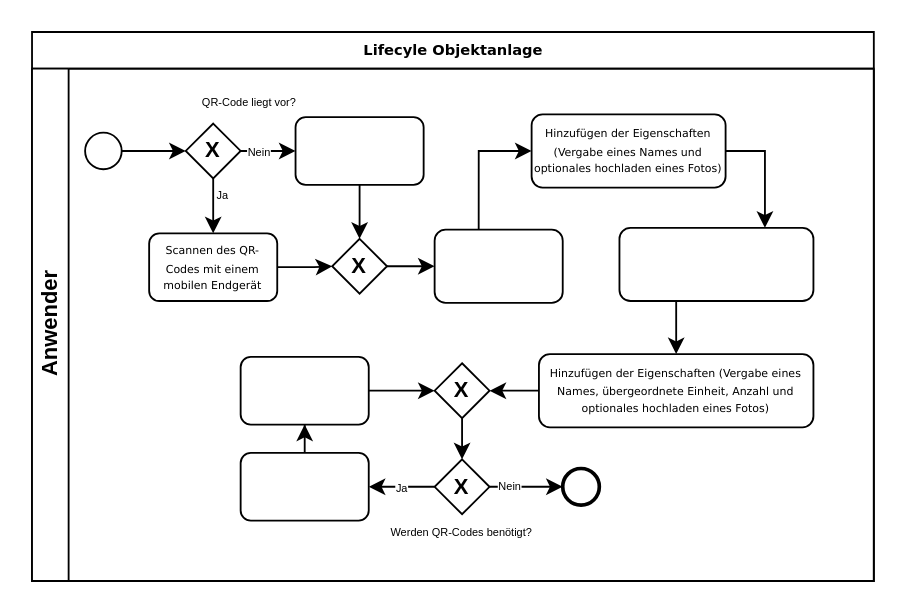
This 906x613 diagram has some shape labels left out. The shapes that lost their labels are listed below. From the top down, each one's centre as x and y in pixels, then its label:
pixel 359 150: Aufrufen der privaten Home Storage Manager Instanz
pixel 498 265: Aufrufen des Formulars "New Unit" (Neue übergeordnete Einheit)
pixel 715 263: Aufrufen des Formulars "New Object" (Neues Objekt )
pixel 304 390: Anbringen des QR-Codes an der Einheit oder des Objektes
pixel 304 486: QR-Code am Element erzeugen
